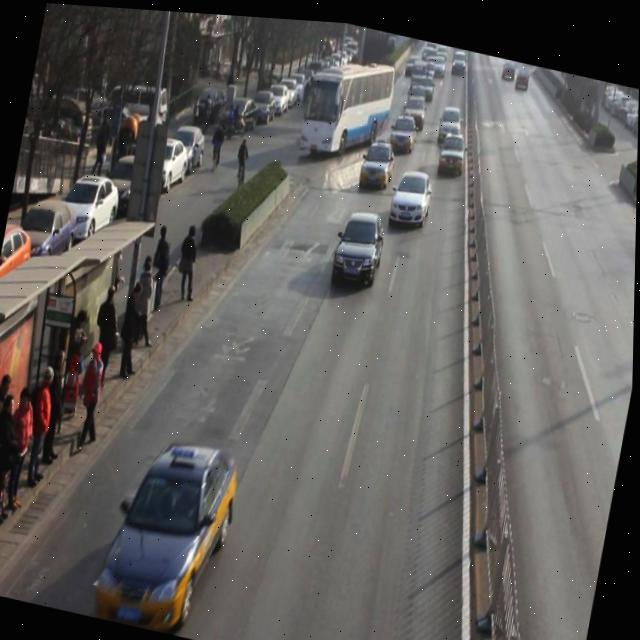car: (95, 430, 246, 636), (331, 205, 389, 289), (387, 161, 436, 227), (358, 134, 398, 190), (436, 126, 469, 176), (435, 100, 464, 146), (388, 109, 419, 152), (401, 88, 429, 130)
van: (296, 42, 398, 167)
